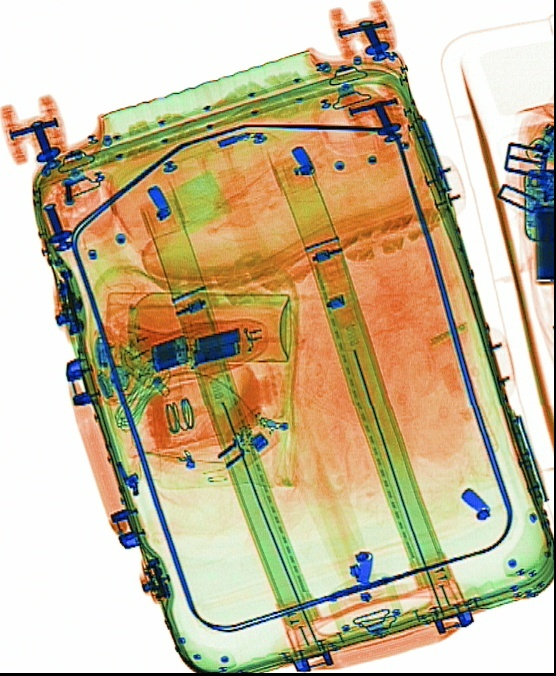pressure: (102, 285, 293, 362)
